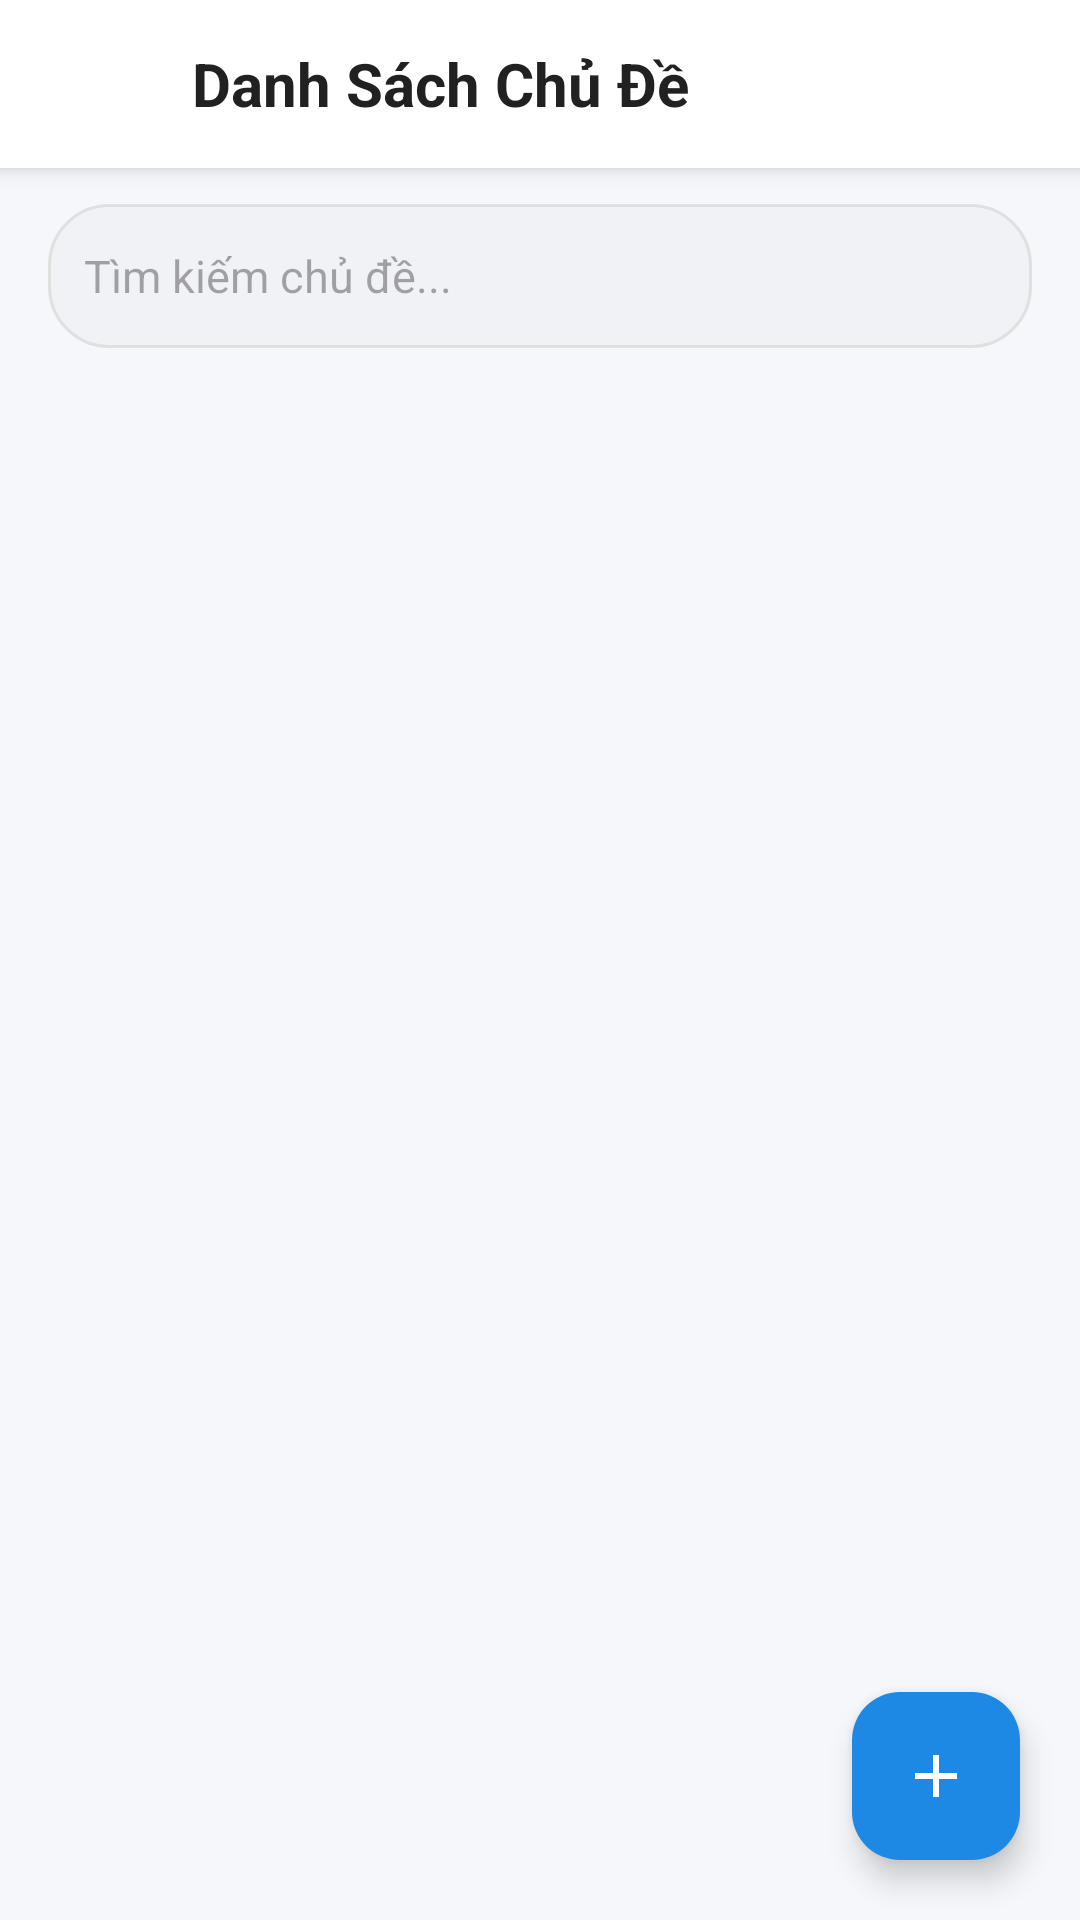

Locate icon controls on the screen. Image size 1080px×1920px, boxes as bbox=[x1, y1, x2, y2].
Thêm chủ đề: bbox=[852, 1692, 1020, 1860]
